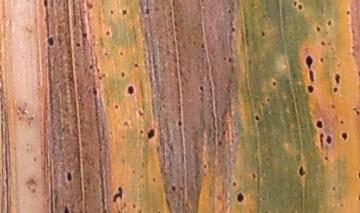tarspot: (107, 181, 126, 205), (310, 116, 328, 131), (301, 55, 318, 70), (234, 189, 249, 205), (63, 167, 76, 185), (124, 82, 137, 100), (330, 72, 346, 86), (294, 162, 307, 179), (146, 125, 157, 145), (42, 34, 57, 48), (317, 131, 327, 151), (140, 3, 154, 17), (109, 100, 123, 114), (336, 130, 351, 143), (304, 70, 319, 83), (302, 83, 318, 95), (251, 110, 263, 126), (134, 105, 147, 118), (76, 29, 90, 41), (82, 1, 97, 12), (83, 62, 101, 71), (325, 131, 333, 151), (223, 52, 235, 65), (226, 22, 240, 33), (248, 170, 260, 182), (118, 7, 131, 18), (100, 27, 113, 38), (257, 28, 270, 39), (324, 17, 334, 31), (168, 181, 178, 195), (351, 105, 360, 120), (88, 85, 100, 96), (130, 59, 142, 70), (321, 154, 333, 165), (330, 85, 341, 96), (269, 78, 280, 89), (336, 199, 347, 210), (313, 24, 325, 34), (194, 85, 207, 94), (73, 39, 83, 50), (342, 8, 353, 18), (318, 38, 328, 49), (117, 69, 128, 79), (295, 1, 304, 13), (318, 53, 327, 65), (59, 205, 74, 212), (198, 40, 206, 53), (326, 101, 336, 111), (230, 179, 240, 189), (136, 127, 147, 136), (174, 118, 183, 129), (335, 119, 347, 127), (289, 1, 299, 10), (215, 137, 223, 148), (118, 49, 128, 57), (225, 8, 236, 15), (99, 206, 110, 213), (128, 201, 138, 208), (329, 185, 337, 193), (220, 129, 228, 137), (263, 95, 271, 102)
